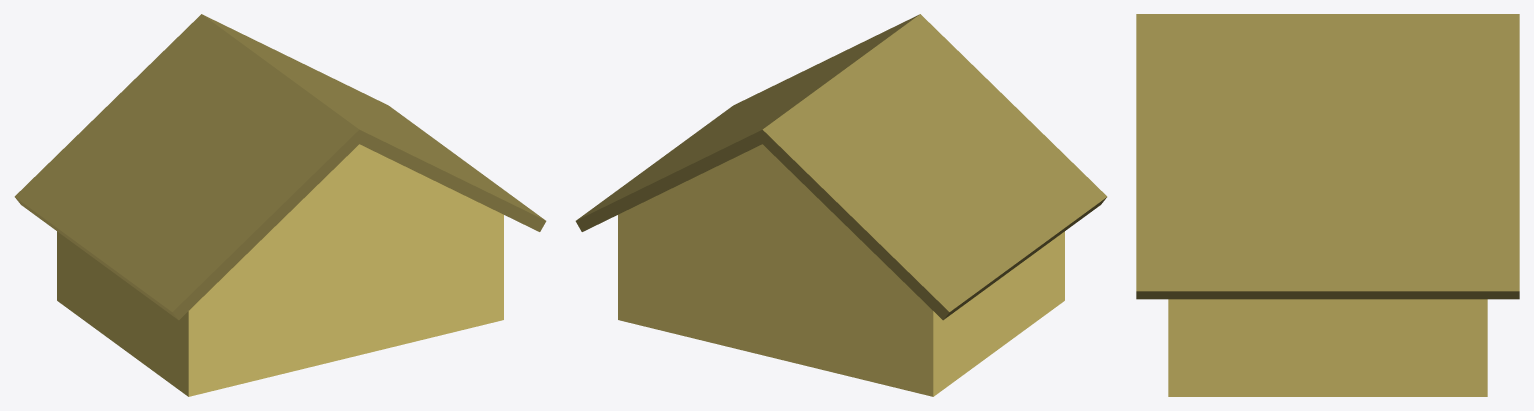
The model's file is result.glb.
3 views of the same model, side by side, from view 1: azimuth 30°, elevation 25°; view 2: azimuth 150°, elevation 25°; view 3: azimuth 270°, elevation 25° (orthographic). The views are drawn at different scales.
Parts seen in each view (by area): view 1: e73959ca-6c7d-4c95-b333-a1cf96413404__undefined (×2), 6ef97c06-2b14-4635-a7cc-631b77e33fe6__undefined; view 2: e73959ca-6c7d-4c95-b333-a1cf96413404__undefined (×2), 6ef97c06-2b14-4635-a7cc-631b77e33fe6__undefined; view 3: e73959ca-6c7d-4c95-b333-a1cf96413404__undefined, 6ef97c06-2b14-4635-a7cc-631b77e33fe6__undefined.
Boxes of the visible parts, <box> form: e73959ca-6c7d-4c95-b333-a1cf96413404__undefined (×2): <box>14,14,546,320</box>; 6ef97c06-2b14-4635-a7cc-631b77e33fe6__undefined: <box>57,144,503,396</box>; e73959ca-6c7d-4c95-b333-a1cf96413404__undefined (×2): <box>575,14,1107,320</box>; 6ef97c06-2b14-4635-a7cc-631b77e33fe6__undefined: <box>618,144,1064,396</box>; e73959ca-6c7d-4c95-b333-a1cf96413404__undefined: <box>1136,14,1519,299</box>; 6ef97c06-2b14-4635-a7cc-631b77e33fe6__undefined: <box>1168,299,1487,396</box>.
Size of the model in its own units: 821 by 500 by 600.
